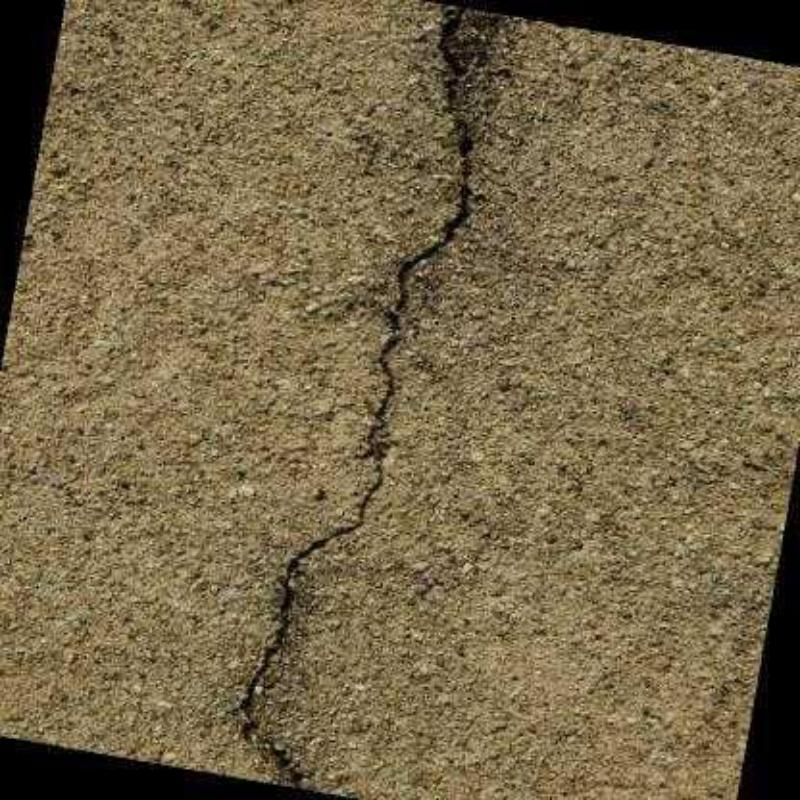crack: (227, 2, 477, 791)
